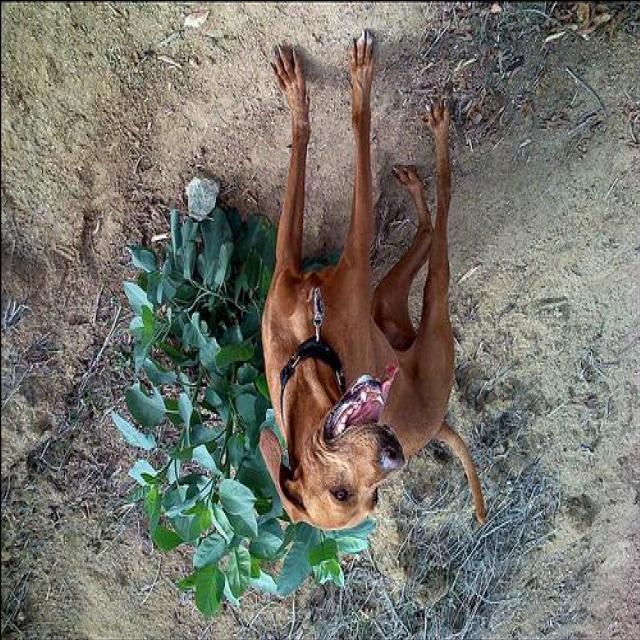rhodesian_ridgeback: (256, 28, 490, 536)
